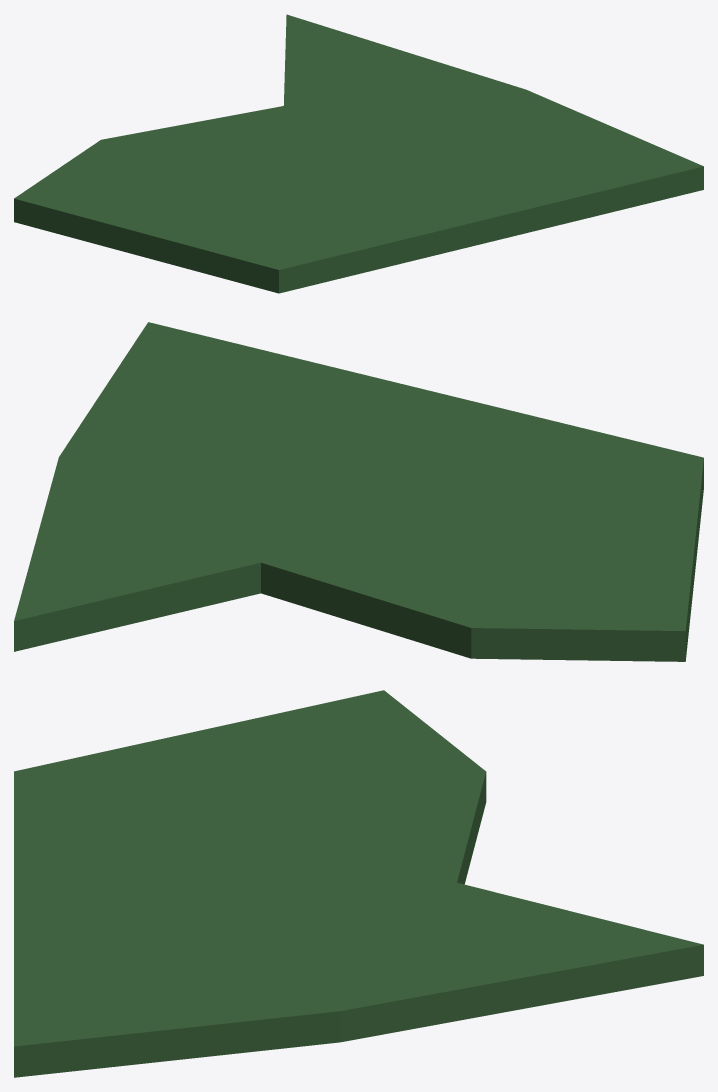
File: x_proval_00_57_1_rmstrd_mirror.fbx
3 renders of one model, top to bottom at view 1: azimuth 30°, elevation 25°; view 2: azimuth 150°, elevation 25°; view 3: azimuth 270°, elevation 25°, orthographic. The views are drawn at different scales.
Parts seen in each view (by area): view 1: x_proval_00_57_1_rmstrd_mirror1; view 2: x_proval_00_57_1_rmstrd_mirror1; view 3: x_proval_00_57_1_rmstrd_mirror1.
Part boxes in pixels (bbox=[...]): x_proval_00_57_1_rmstrd_mirror1: bbox=[14, 14, 703, 293]; x_proval_00_57_1_rmstrd_mirror1: bbox=[14, 322, 703, 661]; x_proval_00_57_1_rmstrd_mirror1: bbox=[14, 690, 703, 1077].
Size of the model in its own units: 4.9 by 0.2 by 4.01.
